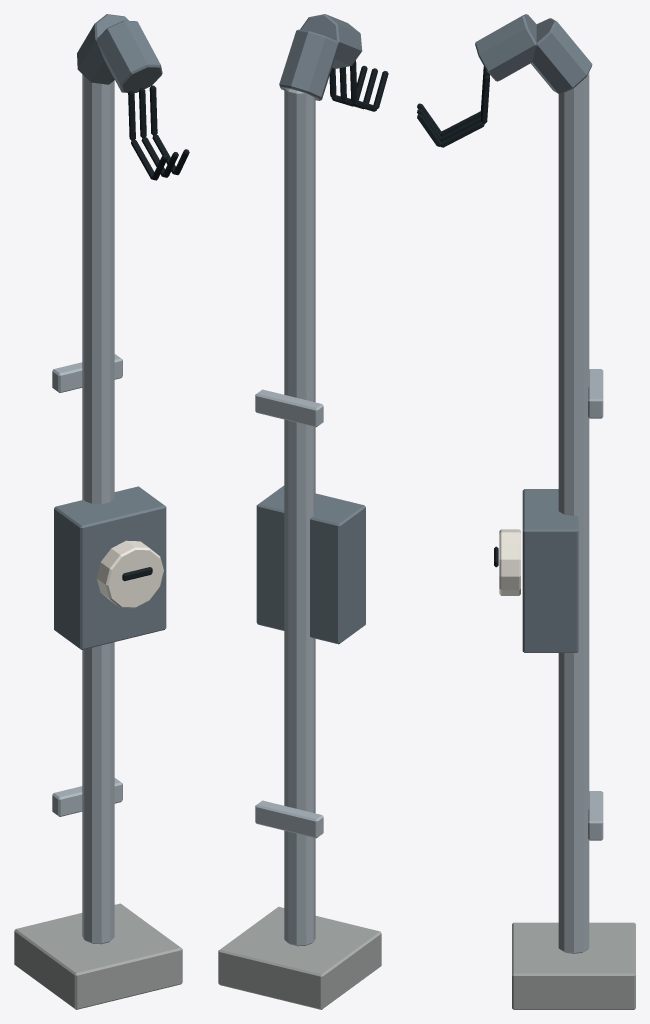
The model's file is b05_overhead_service_mast.glb.
3 renders of one model, left to right at view 1: azimuth 30°, elevation 25°; view 2: azimuth 150°, elevation 25°; view 3: azimuth 270°, elevation 25°, orthographic. The views are drawn at different scales.
Parts seen in each view (by area): view 1: b05_overhead_service_mast; view 2: b05_overhead_service_mast; view 3: b05_overhead_service_mast.
Boxes of the visible parts, left/top/right/bottom form: b05_overhead_service_mast: left=14, top=14, right=189, bottom=1009; b05_overhead_service_mast: left=218, top=14, right=388, bottom=1009; b05_overhead_service_mast: left=417, top=14, right=635, bottom=1009.
Bounding box in the file's own units: 0.4 × 3.44 × 0.7055.
